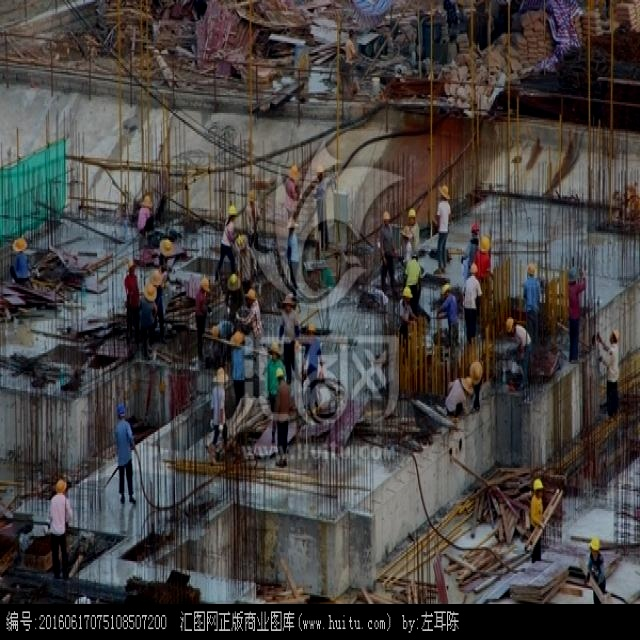Con_Casco: (590, 537, 601, 559), (532, 477, 544, 496), (117, 403, 125, 418)
Sin_Casco_Mascarrilla: (213, 365, 230, 387), (470, 360, 483, 385), (461, 373, 472, 396)
Sin_Chaleco: (114, 419, 133, 469)
